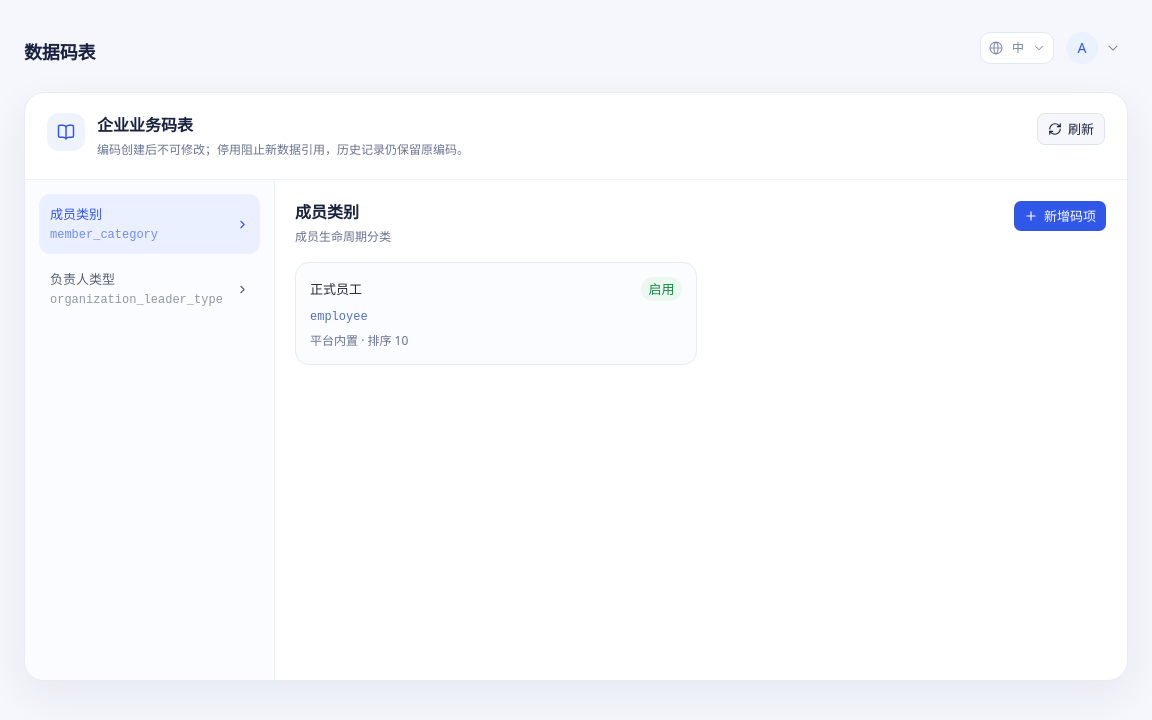
Test: switches among the server-whitelisted business code sets
Expected: the text "正式员工" is shown, [310,279,362,299]
Click the button "负责人类型 organization_leader_type": [150, 289] box [39,259,260,319]
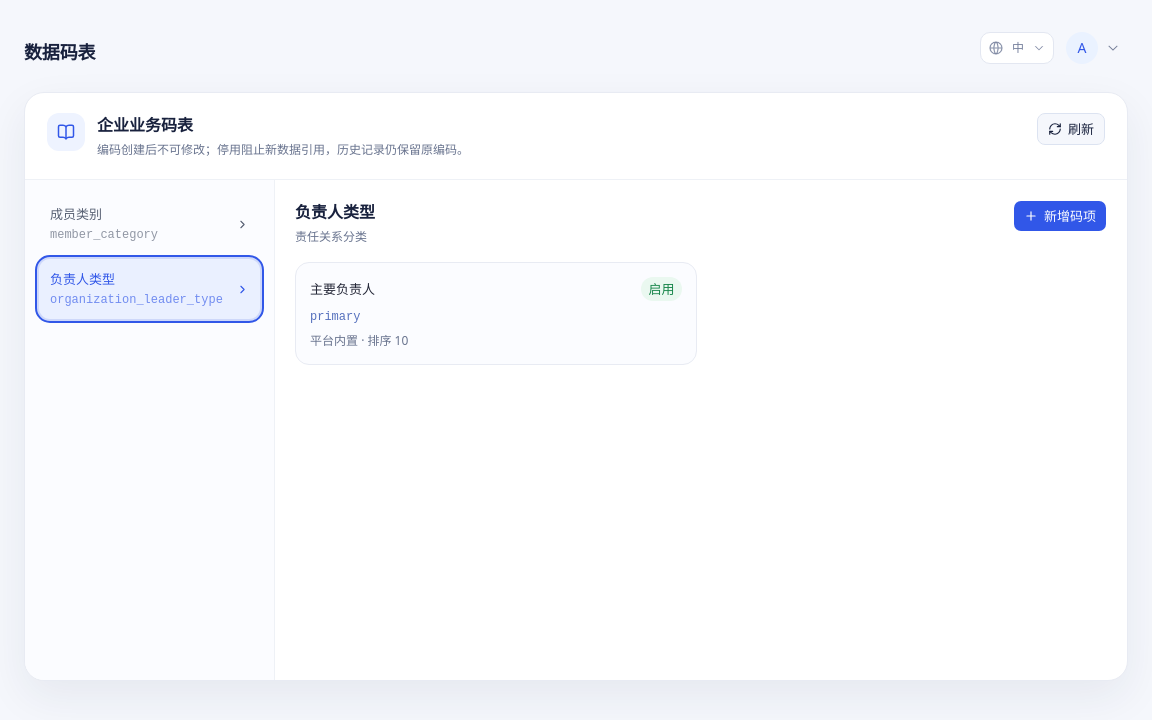
Expected: the text "编码创建后不可修改；停用阻止新数据引用，历史记录仍保留原编码。" is shown, [97,141,469,159]
Result: the text "主要负责人" is shown at [310,279,375,299]
